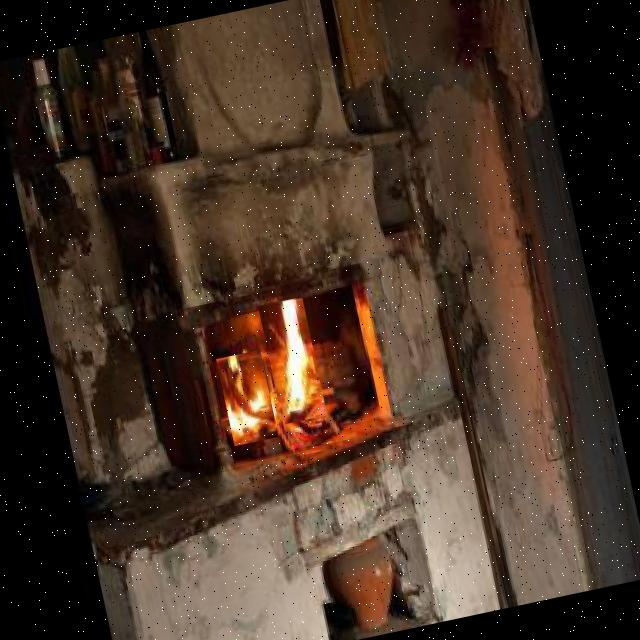fire: (258, 296, 326, 424), (216, 350, 278, 446)
